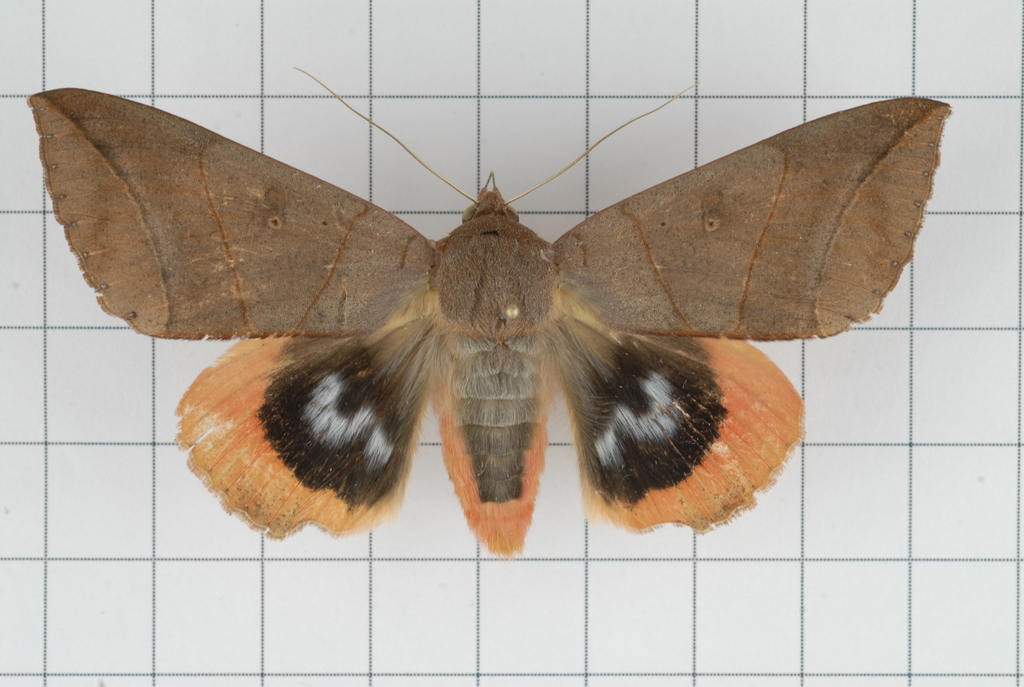Butterfly: (21, 69, 957, 562)
